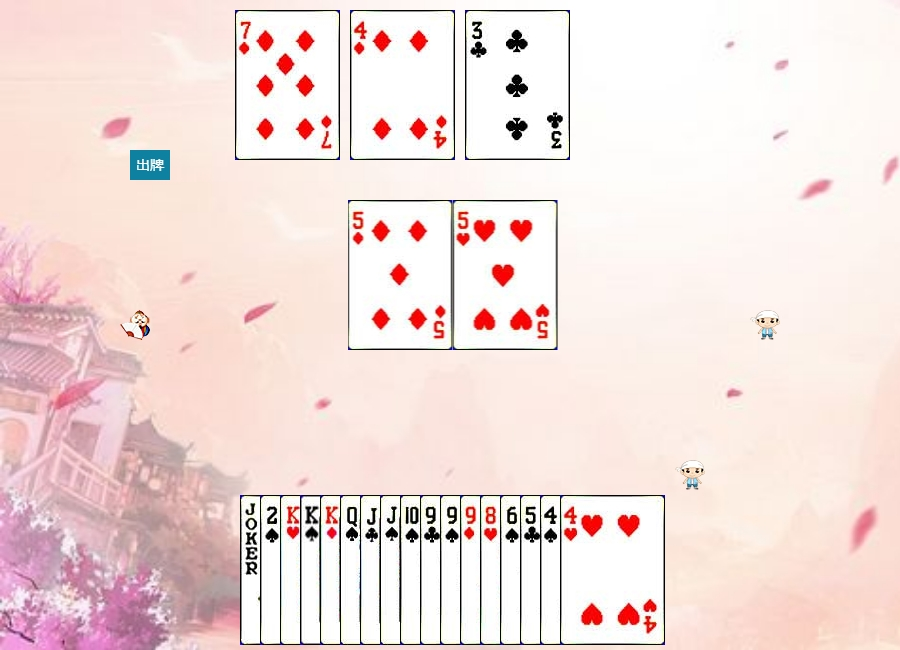10~4: (400, 495, 505, 645)
11~2: (360, 495, 465, 645)
11~4: (380, 495, 485, 645)
12~4: (340, 495, 445, 645)
13~1: (320, 495, 425, 645)
13~3: (280, 495, 385, 645)
13~4: (300, 495, 405, 645)
15~4: (260, 495, 365, 645)
17~3: (240, 495, 345, 645)
3~2: (465, 10, 570, 160)
4~1: (350, 10, 455, 160)
4~3: (560, 495, 665, 645)
4~4: (540, 495, 645, 645)
5~1: (348, 200, 453, 350)
5~2: (520, 495, 625, 645)
5~3: (453, 200, 558, 350)
6~4: (500, 495, 605, 645)
7~1: (235, 10, 340, 160)
8~3: (480, 495, 585, 645)
9~1: (460, 495, 565, 645)
9~2: (420, 495, 525, 645)
9~4: (440, 495, 545, 645)
